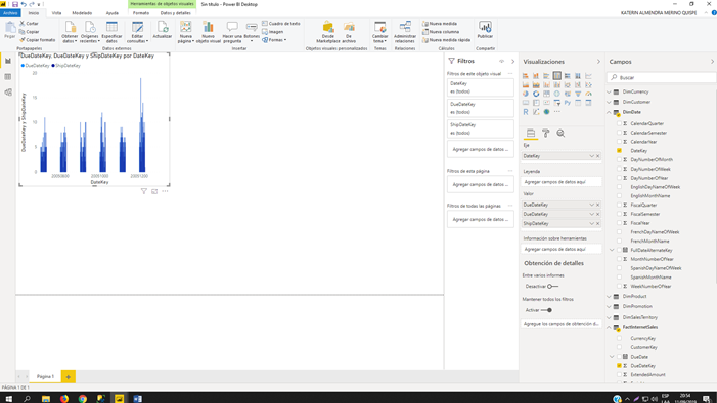

The page's visual inventory and layout, read from the dashboard file:
{"tool":"powerbi","page":{"name":"Página 1","canvas":[1280,720],"ordinal":0},"visuals":[{"type":"clusteredColumnChart","fields":{"Y":["CountNonNull(FactInternetSales.DueDateKey)","CountNonNull(FactInternetSales.DueDateKey)","CountNonNull(FactInternetSales.ShipDateKey)"],"Category":["DimDate.DateKey"]},"box":[10.1,0,450.9,398.3],"z":0},{"type":"clusteredColumnChart","fields":{"Y":["CountNonNull(DimProductSubcategory.CategoryKey)","CountNonNull(DimProductCategory.CategoryKey)"]},"box":[461,0,483.4,360.3],"z":1000}]}

Visuals, with their boxes on the page's 1280x720 design canvas (x1, y1, x2, y2). These are canvas units, not pixel positions in the 717x403 screenshot, which may show the page scaled, cropped or inside an application window:
clusteredColumnChart - CountNonNull(FactInternetSales.DueDateKey) x CountNonNull(FactInternetSales.DueDateKey): 10/0/461/398
clusteredColumnChart - CountNonNull(DimProductSubcategory.CategoryKey) x CountNonNull(DimProductCategory.CategoryKey): 461/0/944/360
